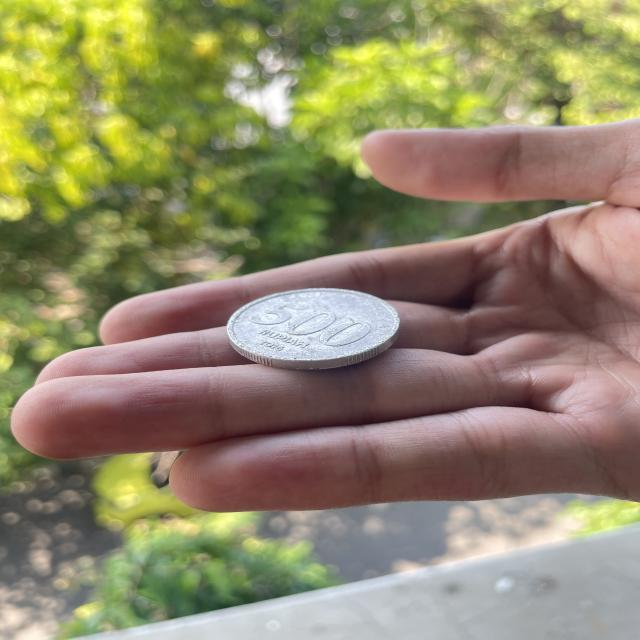500-kuning: (227, 289, 400, 369)
